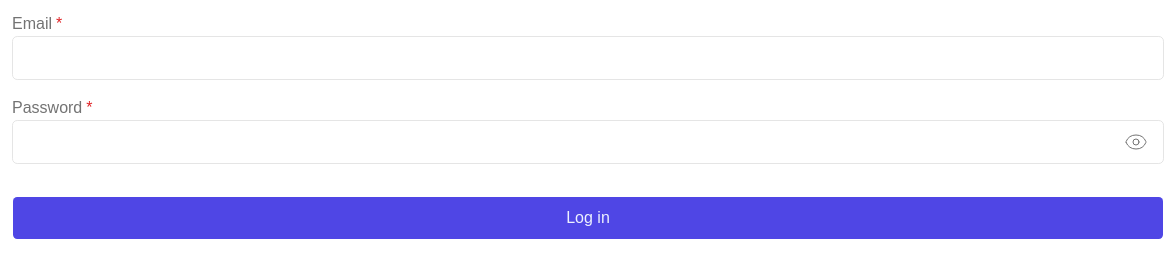
it: Login Form › shows loading state during submission
The width and height of the screenshot is (1176, 257).
Type "example@example.com" into the field labelled "Email" at (588, 58), box 12,36 -> 1164,80
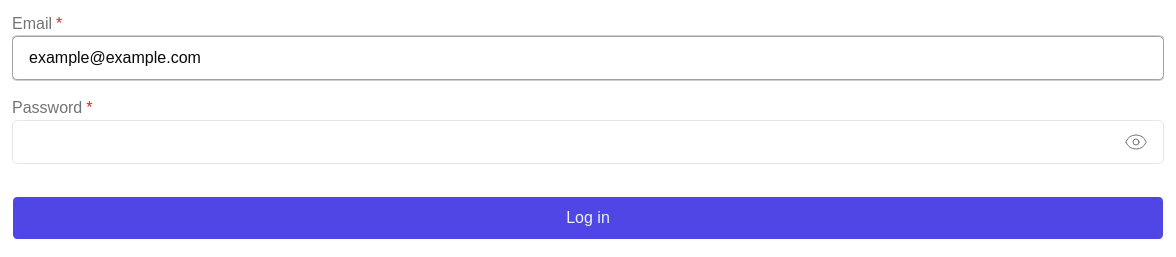
Type "Password123!" into the password field labelled "Password" at (588, 142), box 12,120 -> 1164,164
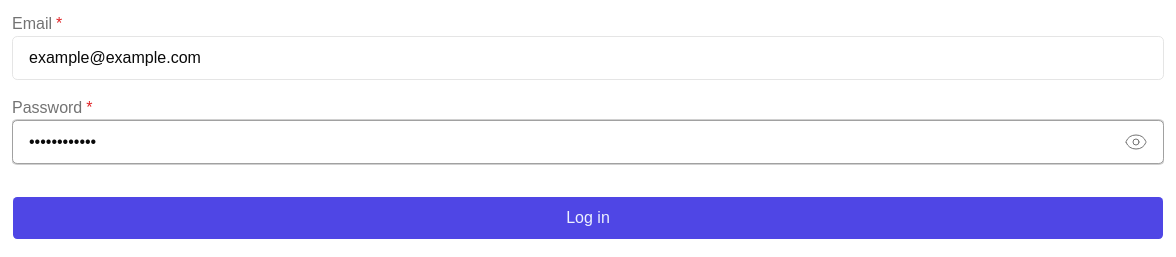
Click the button "Log in" at (588, 218), box 12,196 -> 1164,240
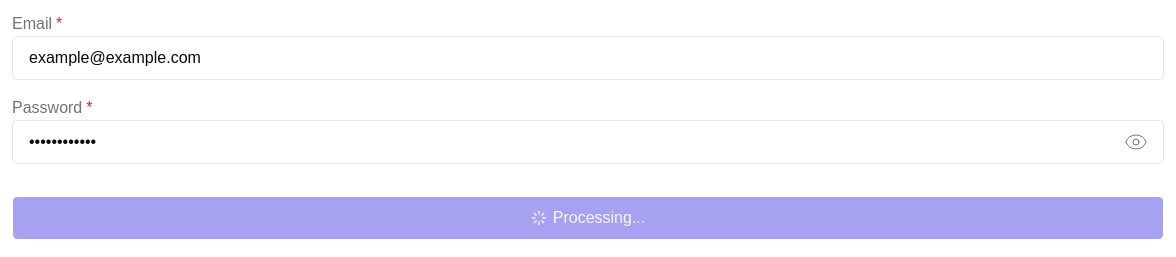
Expected: the button named "Log in" is disabled, 12,196 -> 1164,240
Expected: the button named "Log in" reads "Processing...", 12,196 -> 1164,240
